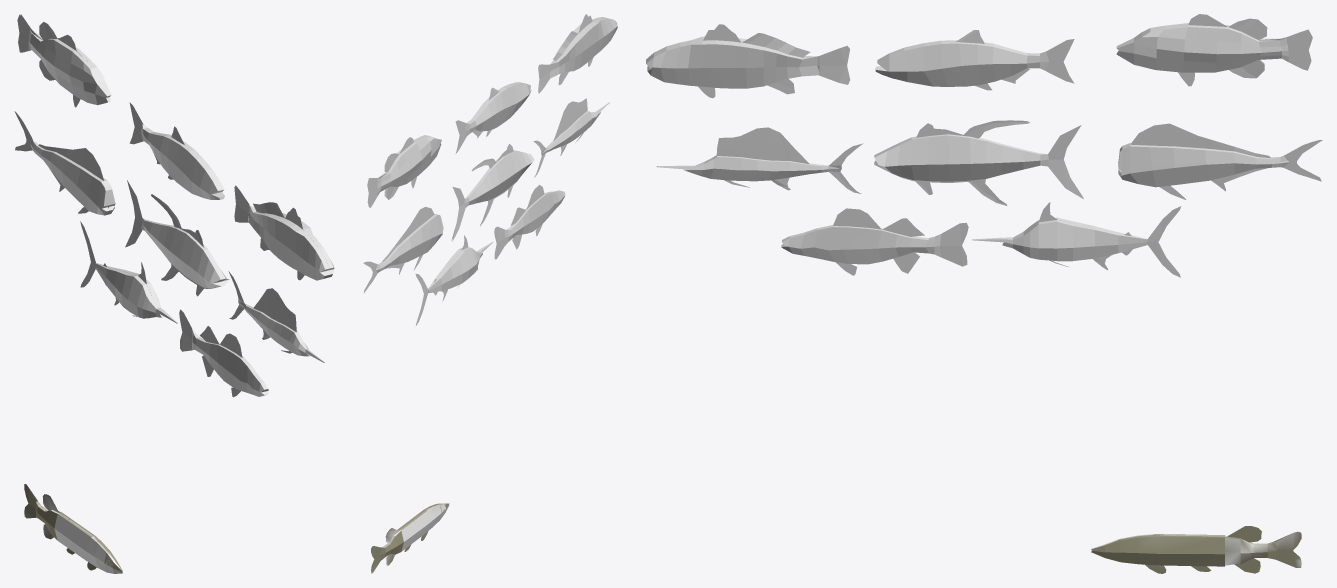
Rendered from fish.fbx.
3 renders of one model, left to right at view 1: azimuth 30°, elevation 25°; view 2: azimuth 150°, elevation 25°; view 3: azimuth 270°, elevation 25°, orthographic. The views are drawn at different scales.
Visible parts, largest first — view 1: fish.007, fish.003, fish.006, fish.010, fish.009, fish.005, fish.004, fish.001, fish.002; view 2: fish.007, fish.006, fish.003, fish.010, fish.009, fish.005, fish.004, fish.001, fish.002; view 3: fish.007, fish.003, fish.006, fish.010, fish.009, fish.005, fish.004, fish.002, fish.001.
Boxes of the visible parts, x1=… form: fish.007: x1=234, y1=185, x2=334, y2=280; fish.003: x1=17, y1=14, x2=111, y2=107; fish.006: x1=125, y1=180, x2=229, y2=296; fish.010: x1=14, y1=111, x2=115, y2=215; fish.009: x1=129, y1=102, x2=224, y2=199; fish.005: x1=179, y1=309, x2=268, y2=397; fish.004: x1=24, y1=484, x2=122, y2=573; fish.001: x1=80, y1=221, x2=177, y2=323; fish.002: x1=228, y1=271, x2=324, y2=362; fish.007: x1=538, y1=14, x2=617, y2=93; fish.006: x1=451, y1=144, x2=534, y2=241; fish.003: x1=367, y1=135, x2=441, y2=207; fish.010: x1=363, y1=206, x2=443, y2=293; fish.009: x1=455, y1=82, x2=531, y2=153; fish.005: x1=494, y1=185, x2=565, y2=259; fish.004: x1=371, y1=503, x2=449, y2=573; fish.001: x1=415, y1=235, x2=493, y2=326; fish.002: x1=533, y1=98, x2=609, y2=177; fish.007: x1=646, y1=24, x2=850, y2=98; fish.003: x1=1116, y1=14, x2=1312, y2=86; fish.006: x1=874, y1=120, x2=1083, y2=205; fish.010: x1=1118, y1=123, x2=1322, y2=199; fish.009: x1=875, y1=30, x2=1074, y2=90; fish.005: x1=781, y1=208, x2=968, y2=275; fish.004: x1=1091, y1=526, x2=1301, y2=573; fish.002: x1=656, y1=127, x2=863, y2=193; fish.001: x1=972, y1=202, x2=1181, y2=277.
Bounding box in the file's own units: 0.1928 × 4.66 × 5.11.
